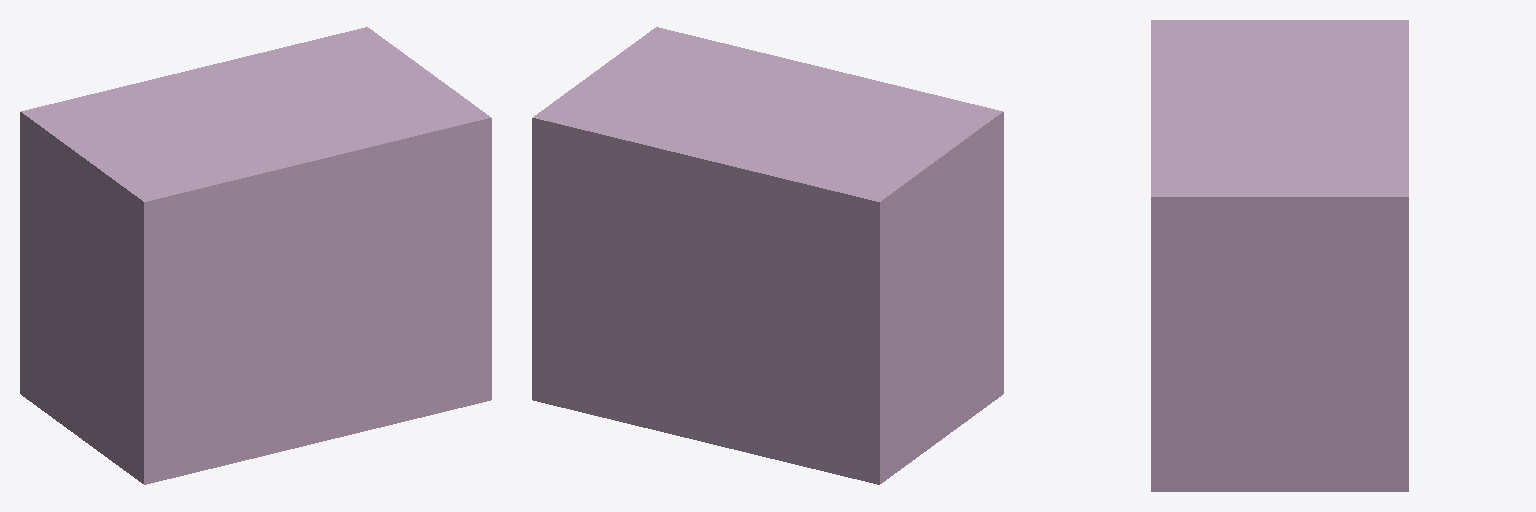
robot.urdf — box.urdf:
<?xml version="1.0" ?>
<robot name="box.urdf">
  <link name="baseLink">
    <contact>
      <lateral_friction value="1.0"/>
      <rolling_friction value="0.0001"/>
      <inertia_scaling value="3.0"/>
    </contact>
    <inertial>
      <origin rpy="0 0 0" xyz="0 0 0"/>
       <mass value="0.1"/>
       <inertia ixx="1" ixy="0" ixz="0" iyy="1" iyz="0" izz="1"/>
    </inertial>
    <visual>
      <origin rpy="0 0 0" xyz="0 0 0"/>
      <geometry>
        <!-- <box size="0.262 0.162 0.204"/> -->
        <mesh filename="box/box.obj" scale="0.262 0.162 0.204"/>
      </geometry>
      <material name="white">
        <color rgba="0.8 0.7 0.8 1"/>
      </material>
    </visual>
    <collision>
      <origin rpy="0 0 0" xyz="0 0 0"/>
      <geometry>
        <mesh filename="box/box.obj" scale="0.262 0.162 0.204"/>
	 	    <!-- <box size="0.262 0.162 0.204"/> -->
      </geometry>
    </collision>
  </link>
</robot>

--- Facts derived from the render (not from the file) ---
The picture shows the robot from 3 angles, left to right: view 1: azimuth 30°, elevation 25°; view 2: azimuth 150°, elevation 25°; view 3: azimuth 270°, elevation 25°; orthographic projection.
Model box.urdf with 1 links and 0 joints (none), rooted at baseLink, posed every joint at zero.
Visible links, largest first — view 1: baseLink; view 2: baseLink; view 3: baseLink.
Link boxes in pixels (bbox=[...]): baseLink: bbox=[20, 27, 491, 484]; baseLink: bbox=[532, 27, 1003, 484]; baseLink: bbox=[1151, 20, 1408, 491].
Size in the robot's own frame: 0.262 by 0.162 by 0.204 metres.
1 mesh visuals loaded from 1 distinct referenced files (1 OBJ).
